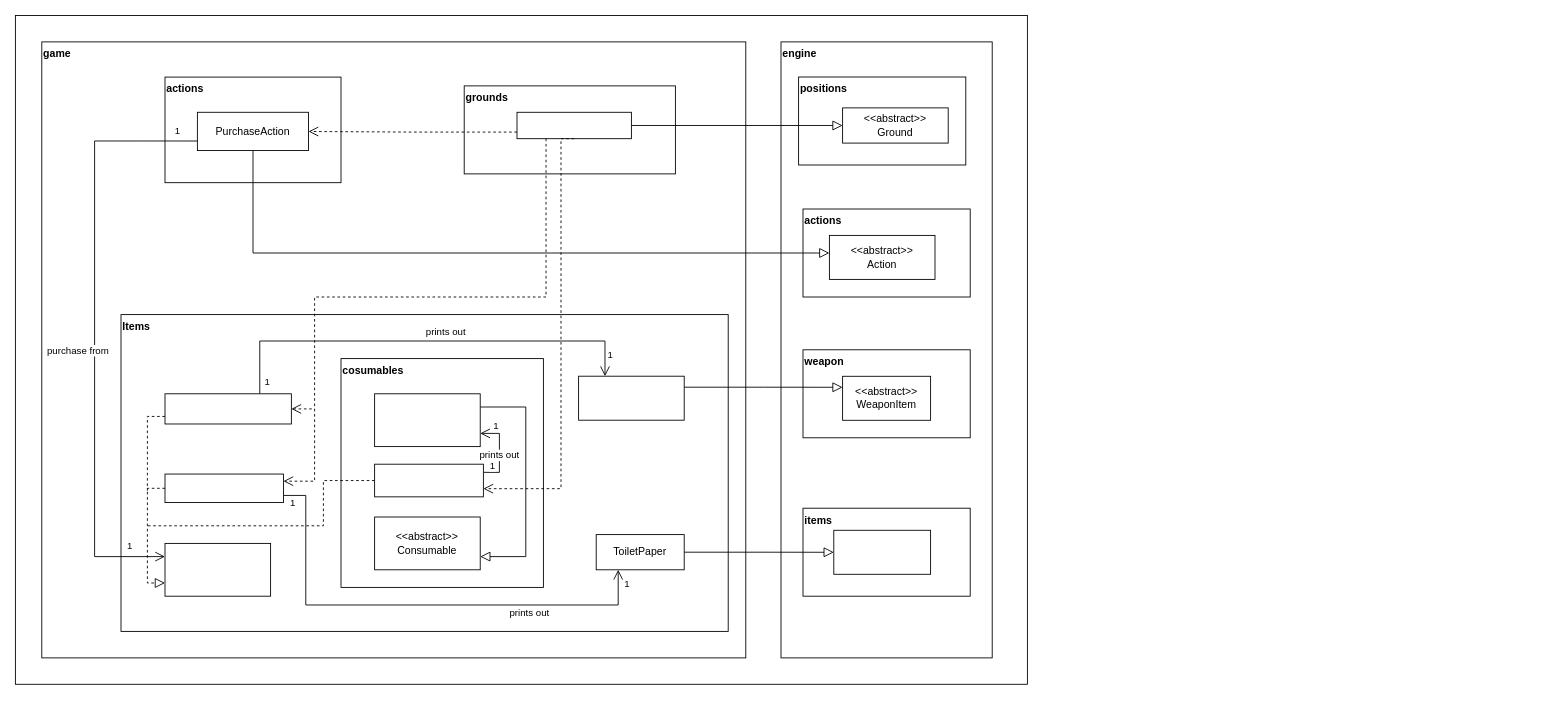
This 1553x717 diagram has some shape labels left out. Here are the shapes that lost their labels. From the top down, the centre of each, then its label:
At [573,125]: "ComputerTerminal".
At [227,408]: "DragonSlayerPrinter".
At [631,397]: "DragonSlayer".
At [427,420]: "EnergyDrink".
At [223,488]: "ToiletPaperPrinter".
At [428,480]: "EnergyDrinkPrinter".
At [217,569]: "<<interface>> Printer".
At [882,551]: "<<abstract>> Item".
